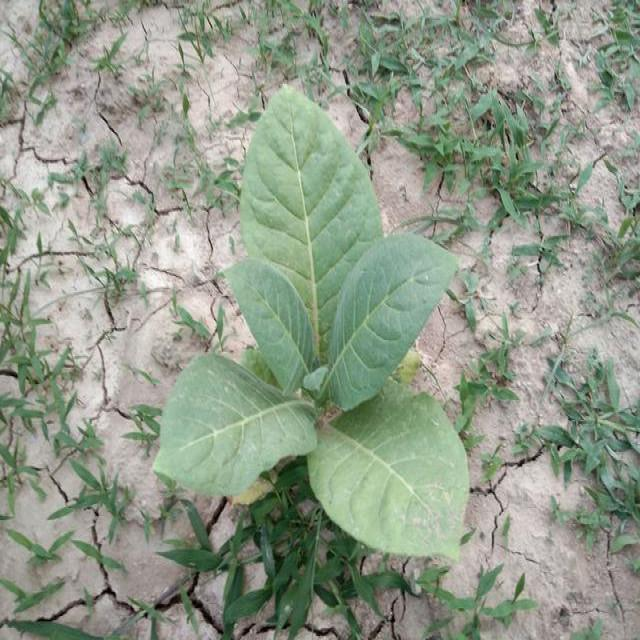crop: (154, 82, 472, 582)
